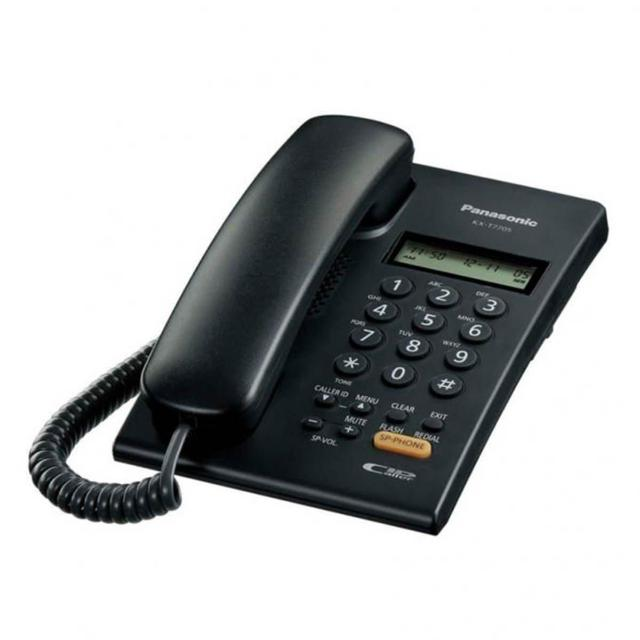Telephone-Set: (45, 75, 619, 547)
